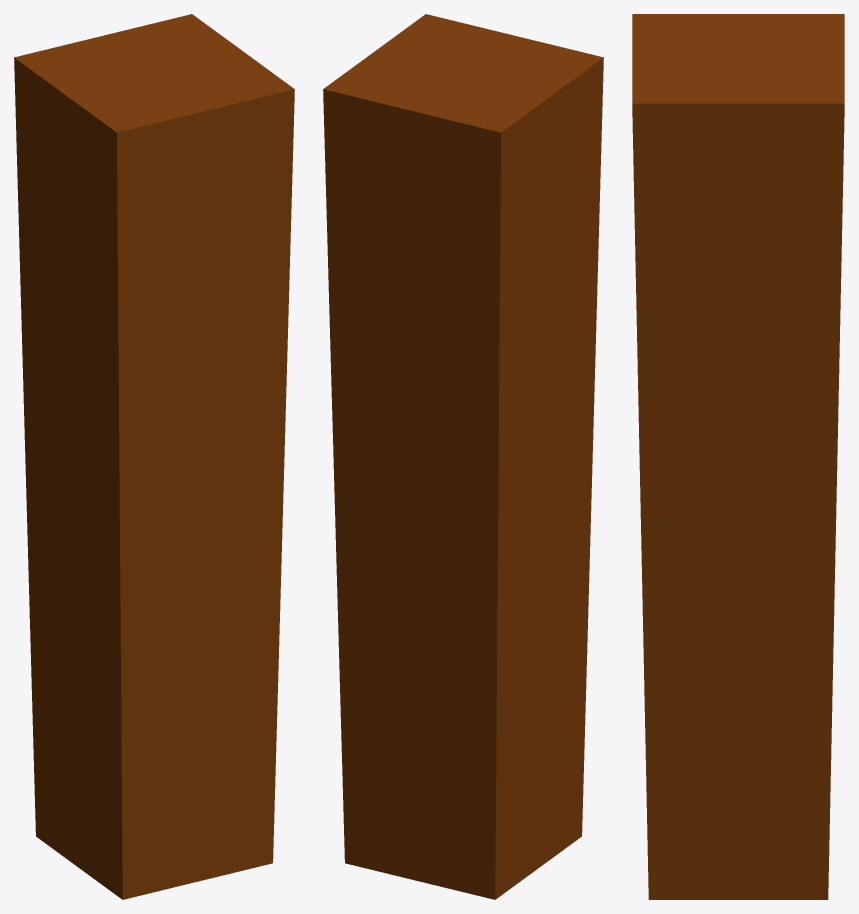
The model's file is Post.fbx.
The picture shows the model from 3 angles, left to right: view 1: azimuth 30°, elevation 25°; view 2: azimuth 150°, elevation 25°; view 3: azimuth 270°, elevation 25°; orthographic projection. The views are drawn at different scales.
Parts seen in each view (by area): view 1: Post; view 2: Post; view 3: Post.
Part boxes in pixels (box(x1,y1,x2,y2)): Post: box(14, 14, 294, 899); Post: box(323, 14, 603, 899); Post: box(632, 14, 844, 899).
Bounding box in the file's own units: 73.51 × 306 × 73.51.
